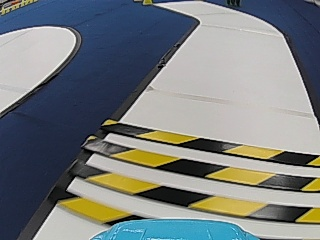bump: (60, 121, 318, 232)
